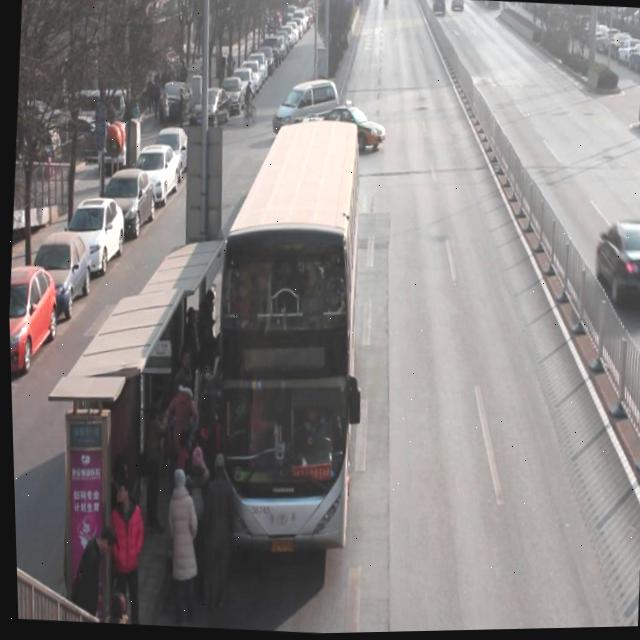car: (590, 216, 640, 312), (310, 104, 388, 157)
truck: (270, 75, 342, 146)
van: (200, 112, 372, 551)
